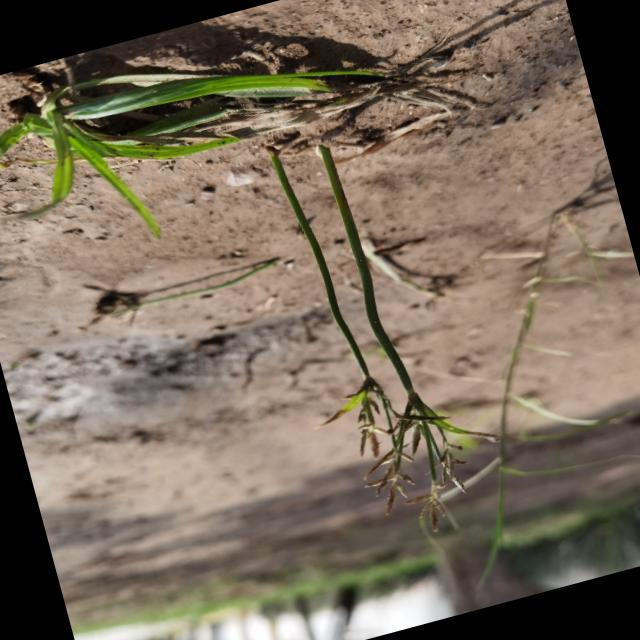cyperus: (301, 343, 524, 562)
